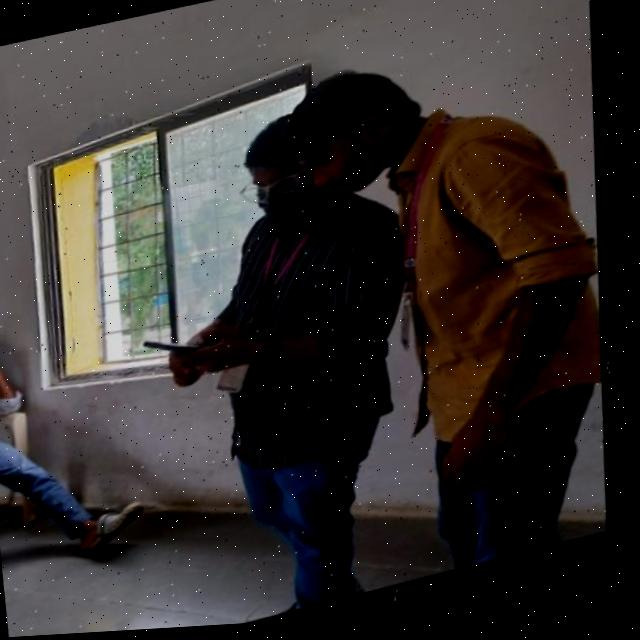id_card: (188, 219, 345, 409), (369, 130, 476, 358)
